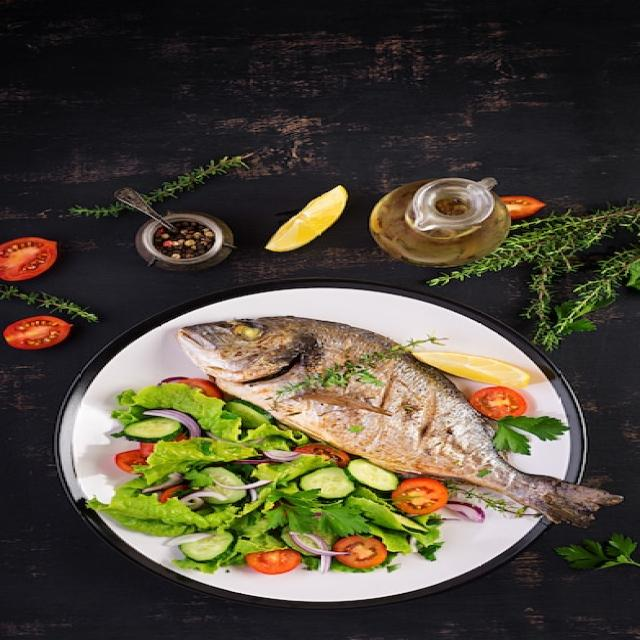pescado: (176, 314, 624, 536)
